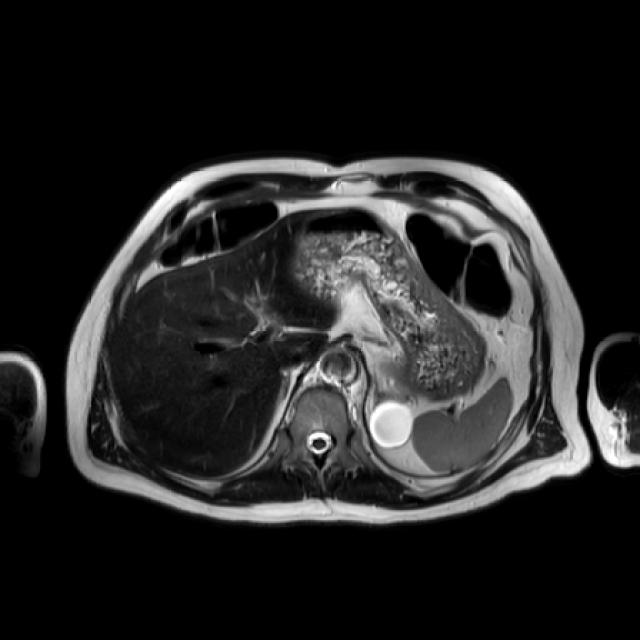sol: (368, 398, 414, 449)
